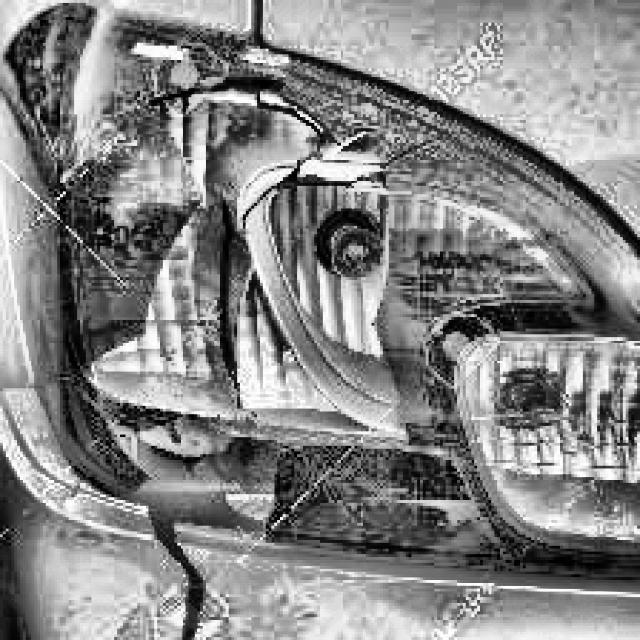tail_lamp: (111, 87, 416, 453)
